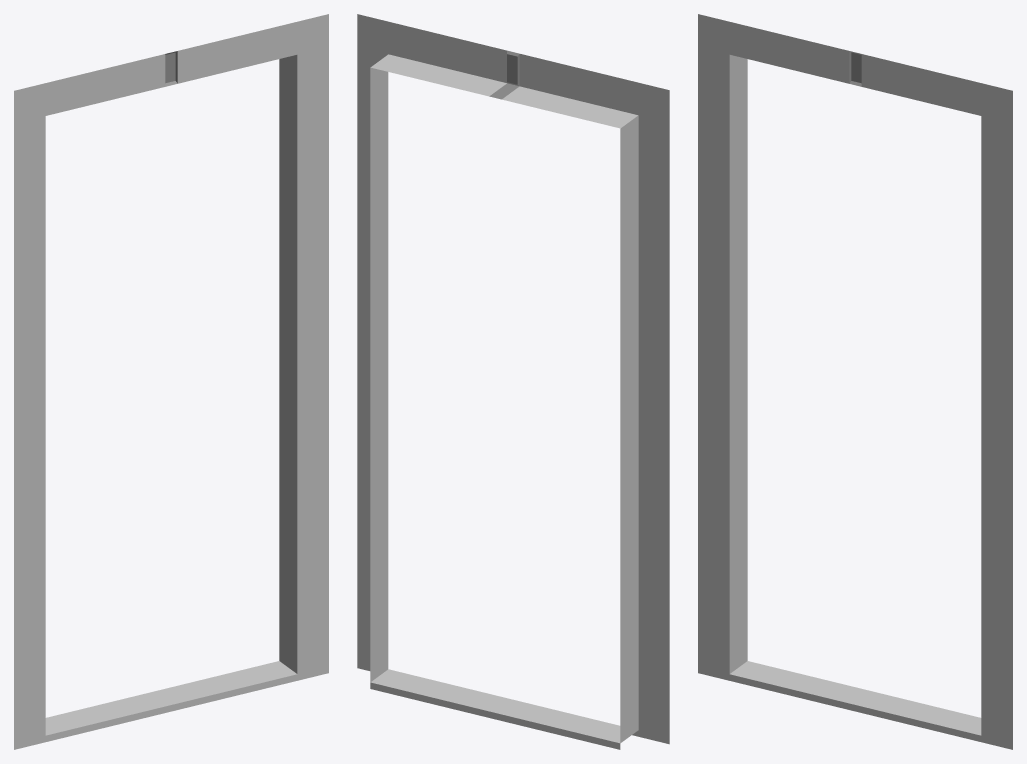
File: Ext-ConcreteDoorframe.fbx
The picture shows the model from 3 angles, left to right: view 1: azimuth 30°, elevation 25°; view 2: azimuth 150°, elevation 25°; view 3: azimuth 330°, elevation 25°; orthographic projection.
Parts seen in each view (by area): view 1: Ext-ConcreteDoorframe; view 2: Ext-ConcreteDoorframe; view 3: Ext-ConcreteDoorframe.
Part boxes in pixels (x1,y1,x2,y2): Ext-ConcreteDoorframe: (14, 14, 328, 749); Ext-ConcreteDoorframe: (357, 14, 669, 749); Ext-ConcreteDoorframe: (698, 14, 1012, 749).
Size of the model in its own units: 100 by 200 by 10.
